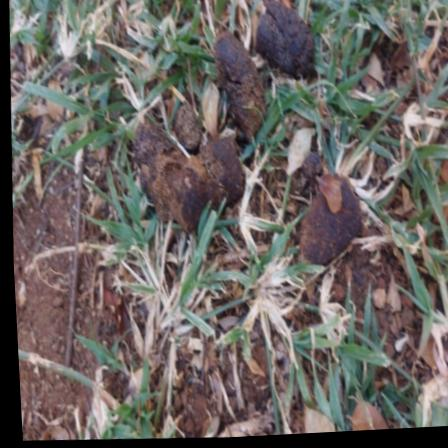dog-poop: (133, 0, 293, 207), (293, 180, 362, 264)
